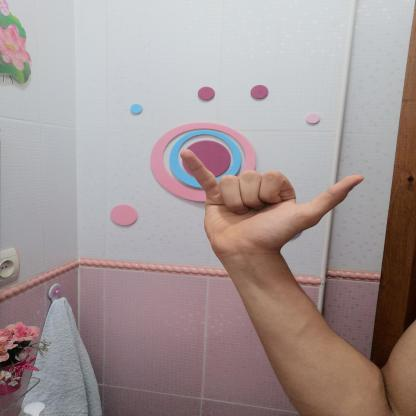YA: (165, 136, 377, 270)
